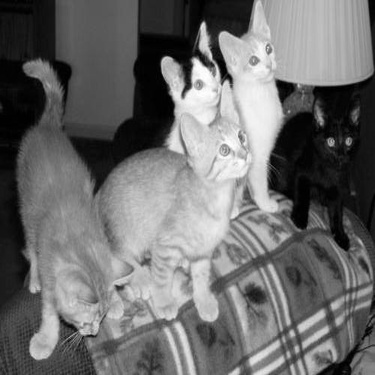cat: (95, 79, 251, 322), (16, 58, 133, 360), (265, 94, 362, 249), (218, 1, 283, 213), (161, 19, 221, 158)
